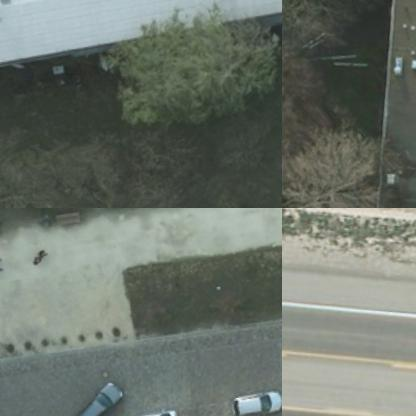car: (67, 379, 125, 415), (220, 387, 281, 415), (125, 405, 182, 415)
